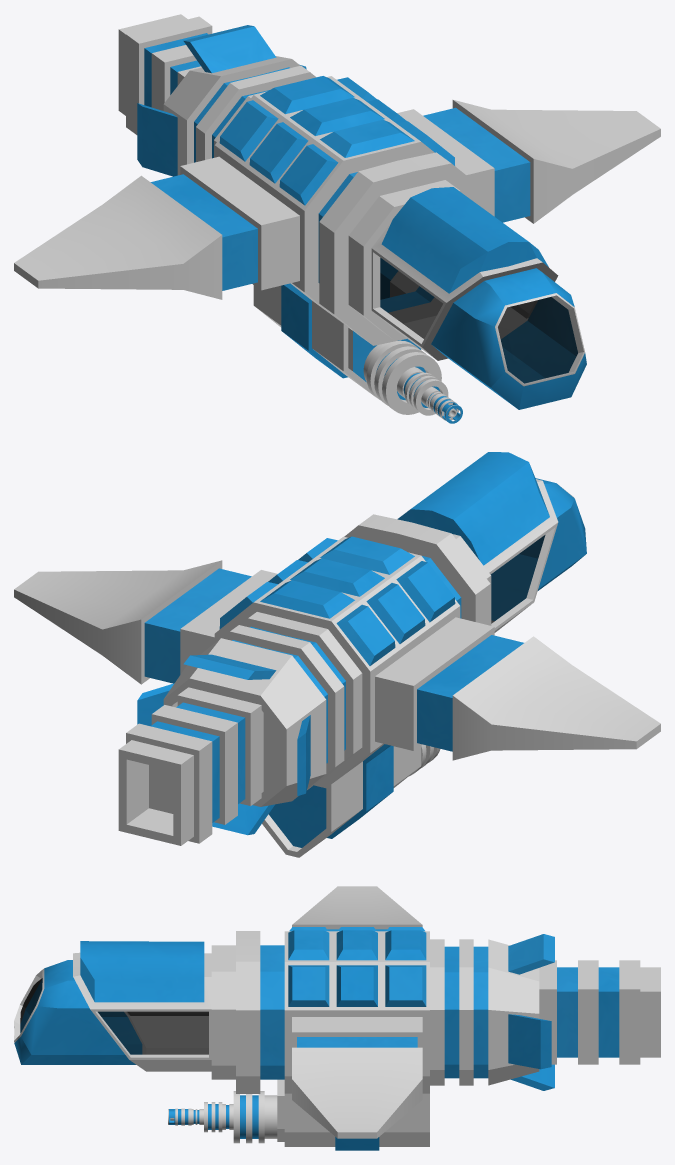
The model's file is BBA.fbx.
3 renders of one model, top to bottom at view 1: azimuth 30°, elevation 25°; view 2: azimuth 150°, elevation 25°; view 3: azimuth 270°, elevation 25°, orthographic. The views are drawn at different scales.
Parts seen in each view (by area): view 1: BBA; view 2: BBA; view 3: BBA.
Part boxes in pixels (box(x1,y1,x2,y2)): BBA: box(14, 14, 660, 423); BBA: box(14, 452, 660, 857); BBA: box(14, 886, 660, 1150).
Bounding box in the file's own units: 8 × 3.15 × 8.89.
